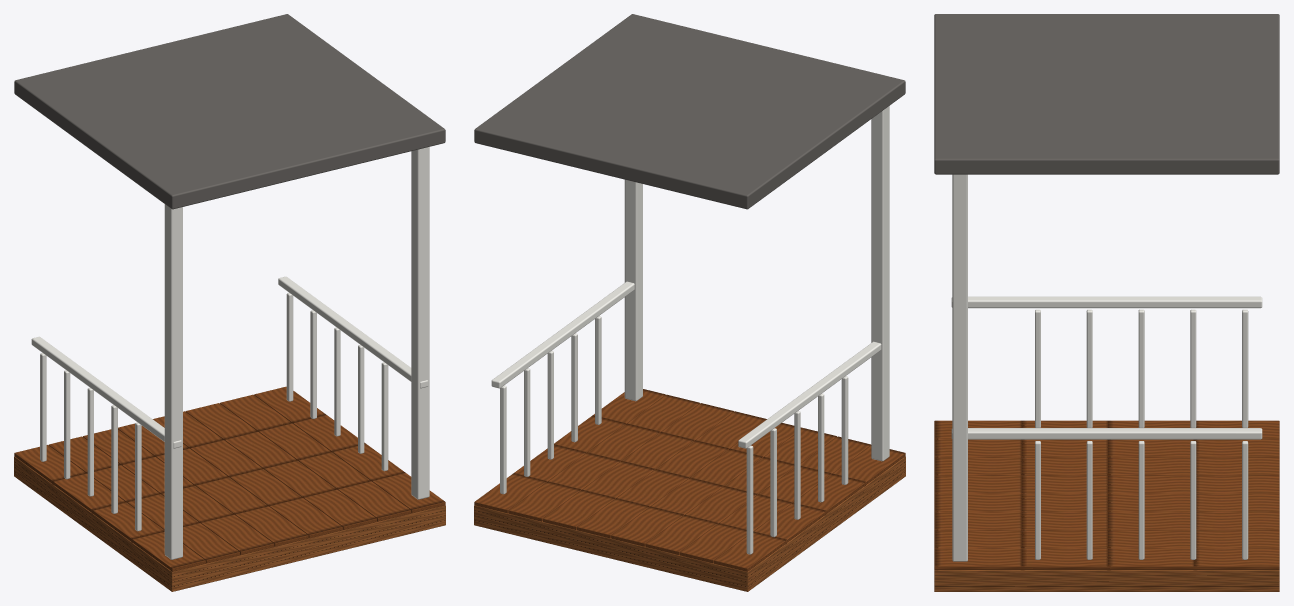
File: paranormal-investigation-house-porch-64c70555__26690.glb
3 renders of one model, left to right at view 1: azimuth 30°, elevation 25°; view 2: azimuth 150°, elevation 25°; view 3: azimuth 270°, elevation 25°, orthographic. The views are drawn at different scales.
Visible parts, largest first — view 1: porch; view 2: porch; view 3: porch.
Part boxes in pixels (x1=…): porch: x1=14, y1=14, x2=445, y2=591; porch: x1=474, y1=14, x2=905, y2=591; porch: x1=934, y1=14, x2=1279, y2=591.
Bounding box in the file's own units: 2 × 2.76 × 2.
4 materials, 2 textured.
